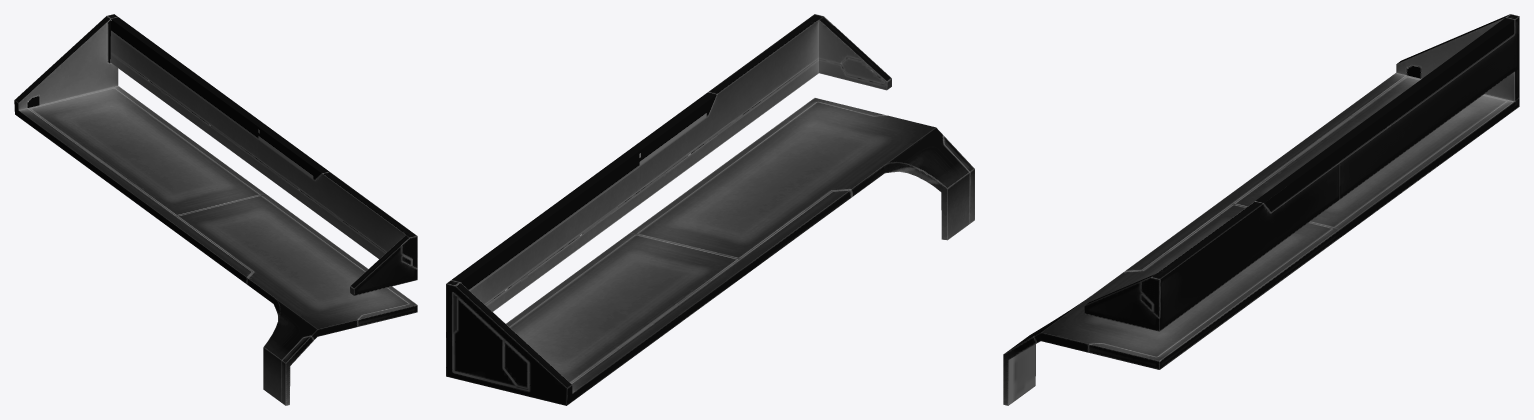
File: propStreetBench.glb
3 views of the same model, side by side, from view 1: azimuth 30°, elevation 25°; view 2: azimuth 150°, elevation 25°; view 3: azimuth 330°, elevation 25° (orthographic). The views are drawn at different scales.
Visible parts, largest first — view 1: propStreetBench; view 2: propStreetBench; view 3: propStreetBench.
Boxes of the visible parts, <box> form: propStreetBench: <box>14,14,417,405</box>; propStreetBench: <box>446,14,974,405</box>; propStreetBench: <box>1003,14,1519,405</box>.
Size of the model in its own units: 1 by 1 by 4.
Materials: 1 (1 with a texture image).
